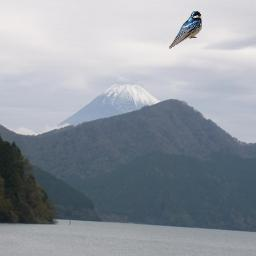Swallow: (169, 10, 202, 49)
